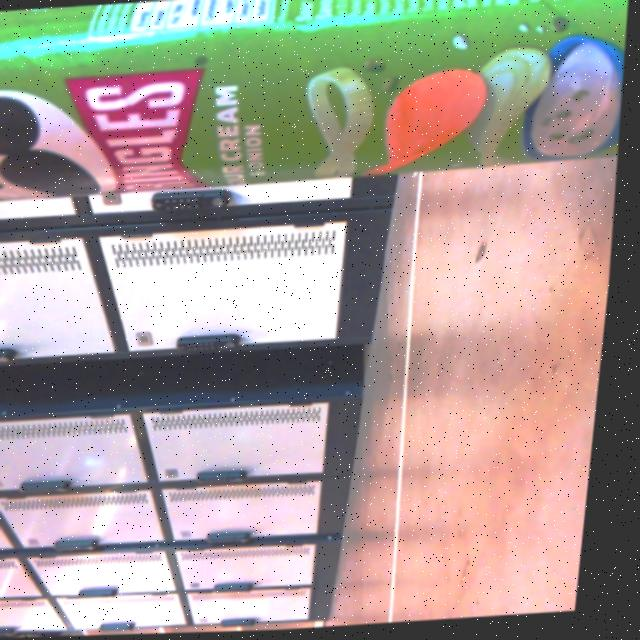greenpringles: (0, 0, 636, 224)
